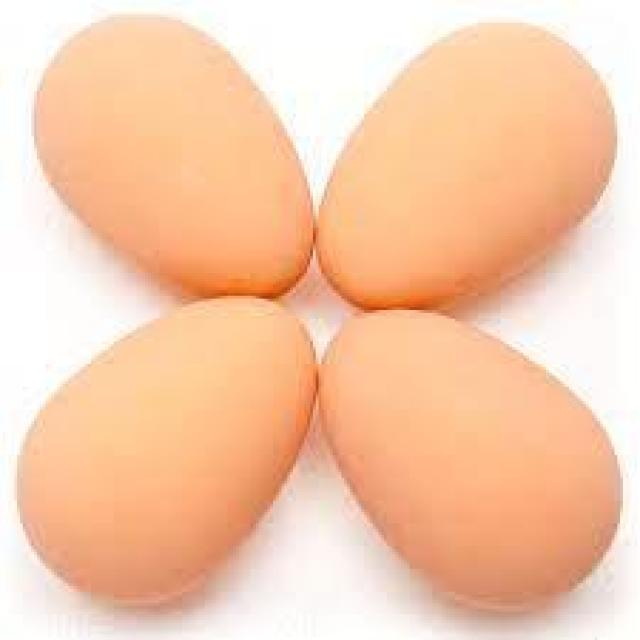Egg: (17, 302, 313, 600), (319, 310, 617, 603), (319, 23, 612, 307), (34, 17, 310, 293)
